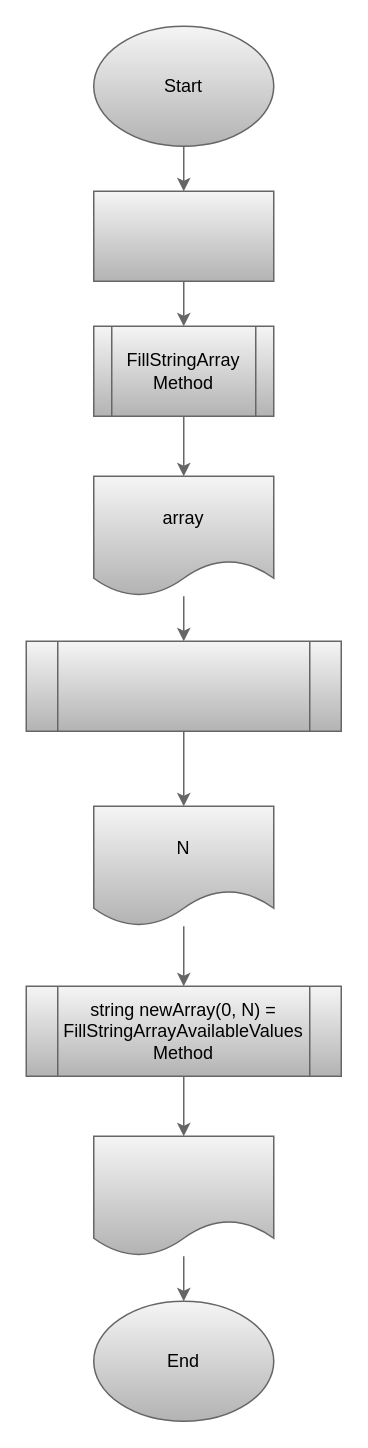
Some shapes in this 368 by 1448 pixel diagram are drawn without their labels. Each missing label, with the box of its shape:
N = NumberOfCharactersPerLine Method: (25, 640, 341, 731)
newArray: (92, 1135, 274, 1256)
string array(0, 9): (92, 190, 274, 281)
